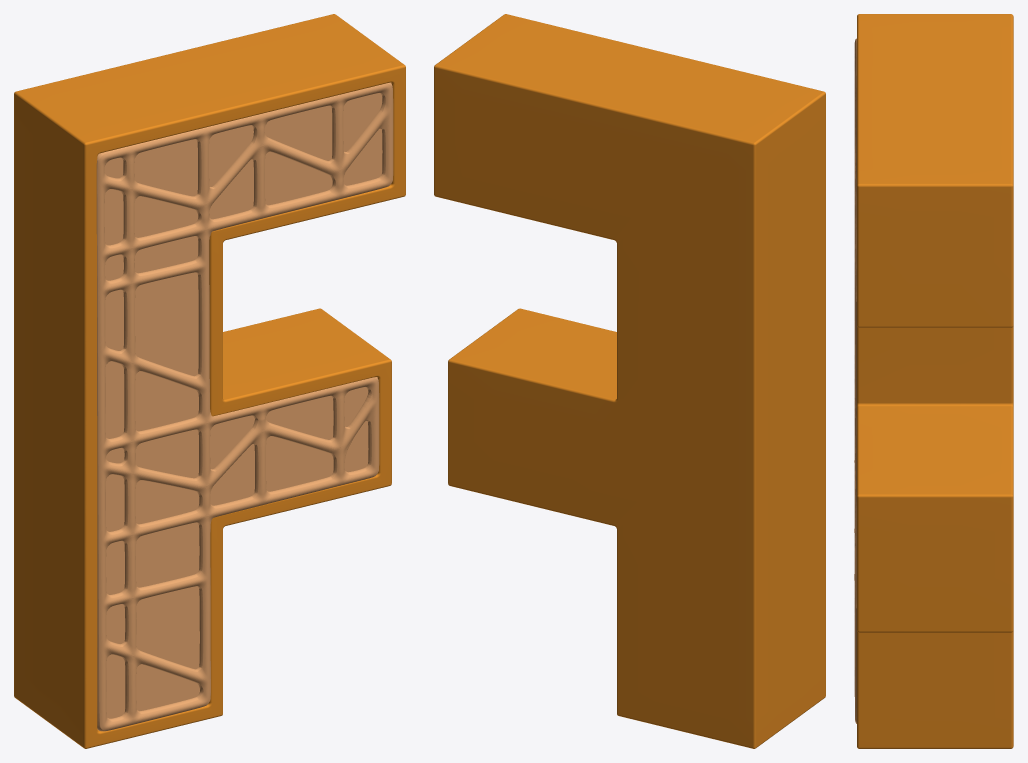
File: F_nuevo.glb
3 renders of one model, left to right at view 1: azimuth 30°, elevation 25°; view 2: azimuth 150°, elevation 25°; view 3: azimuth 270°, elevation 25°, orthographic. The views are drawn at different scales.
Visible parts, largest first — view 1: Text.007, Plane.006, Plane.029; view 2: Text.007; view 3: Text.007, Plane.029.
Boxes of the visible parts, x1,y1,x2,y2 form: Text.007: (14,14,405,748); Plane.006: (104,93,382,718); Plane.029: (96,82,393,731); Text.007: (434,14,825,748); Text.007: (857,14,1013,748); Plane.029: (854,38,856,723).
Bounding box in the file's own units: 1.98 × 3.57 × 0.7767.
